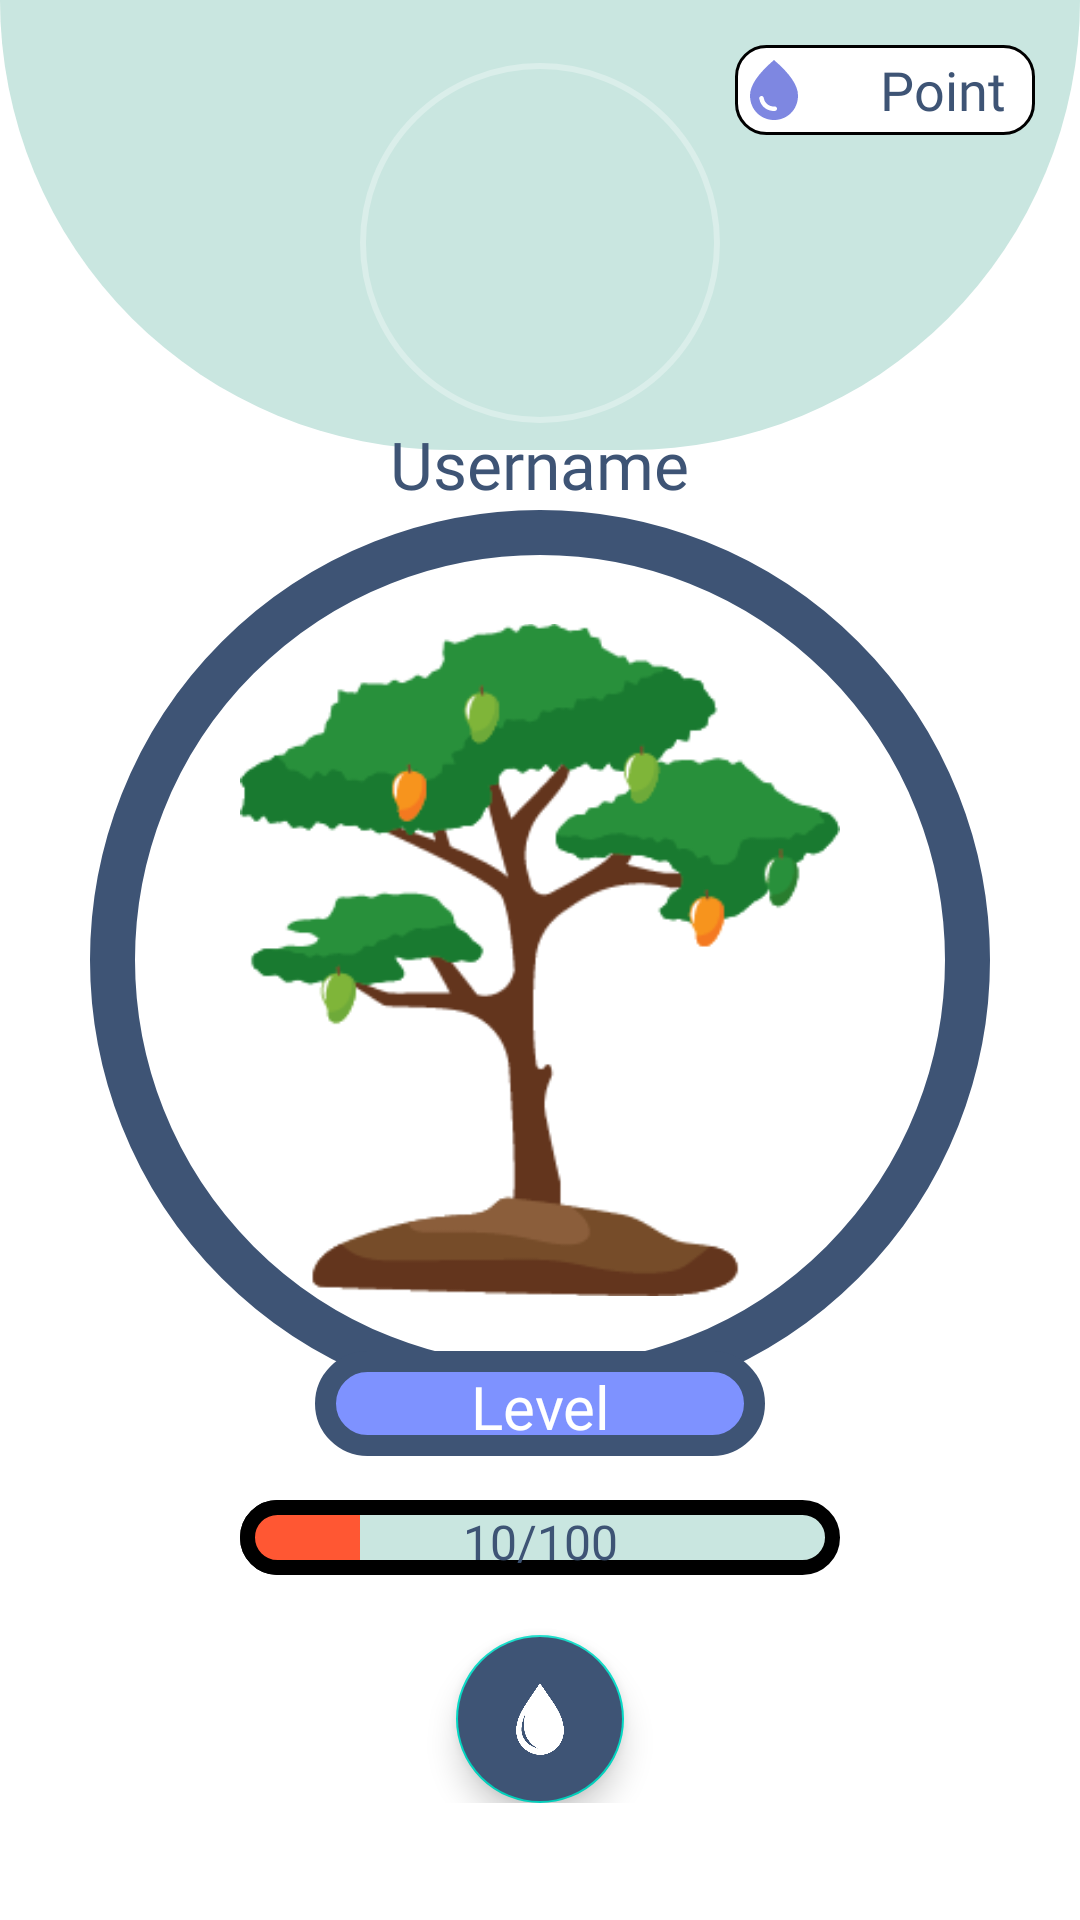

Screen size 1080px×1920px. Icon name, then its center in pixels as [x,y]:
water drop: [540,1719]
